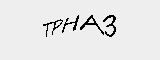А: (80, 12, 103, 34)
З: (103, 14, 116, 39)
Н: (61, 14, 78, 34)
Р: (49, 16, 63, 39)
Т: (38, 19, 52, 39)
